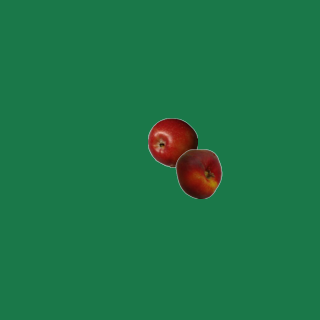Apple Braeburn: (147, 117, 197, 167)
Nectarine Flat: (173, 148, 223, 198)
